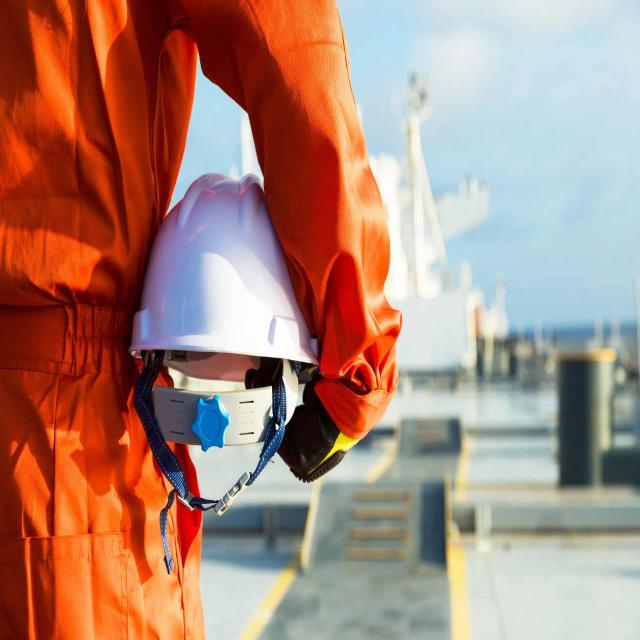helmet: (130, 170, 314, 496)
